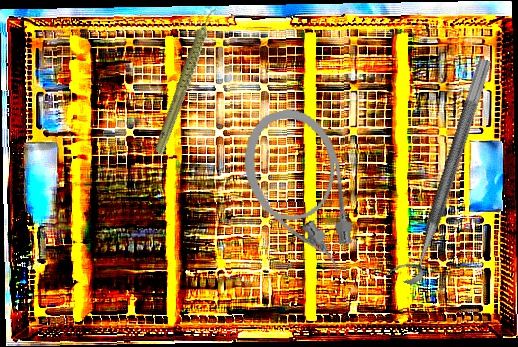Cannula: (231, 99, 369, 291)
Fixation Ring: (386, 51, 493, 288)
Handpiece: (127, 6, 248, 156)
